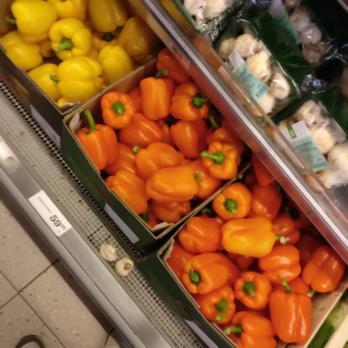Capsicum: (86, 72, 232, 226), (0, 0, 147, 94), (209, 196, 286, 325), (266, 266, 317, 348)
